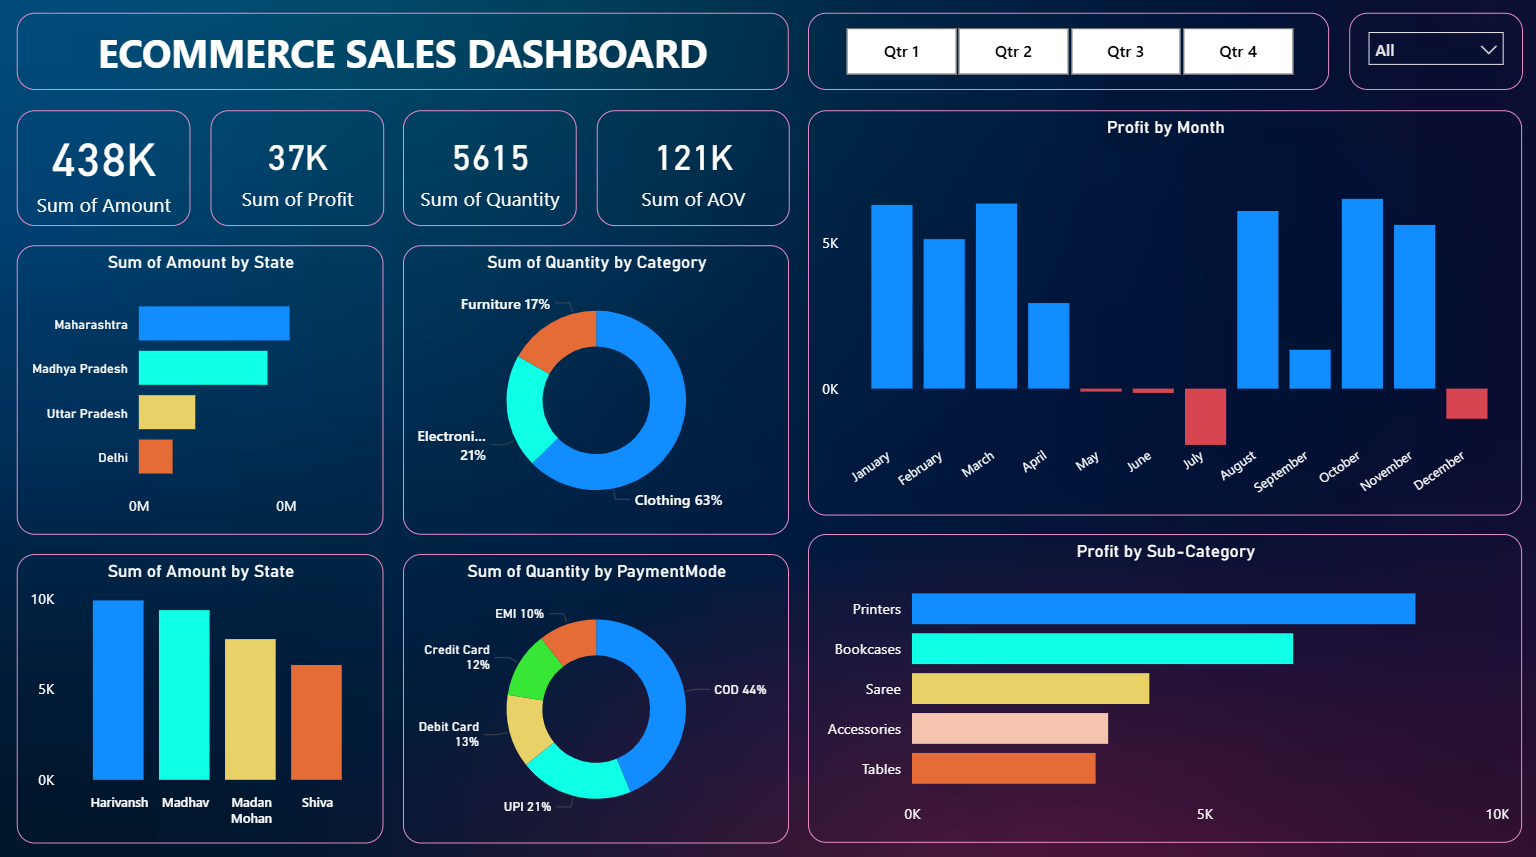

This screenshot's page, from the dashboard's own definition file:
{"tool":"powerbi","page":{"name":"Page 1","canvas":[1280,720],"ordinal":0},"visuals":[{"type":"textbox","box":[16,16,640,64],"z":0},{"type":"columnChart","title":"Profit by Month","fields":{"Y":["Sum(Details.Profit)"],"Category":["Orders.Order Date.Variation.Date Hierarchy.Month"]},"box":[672,96,592,336],"z":1000},{"type":"barChart","title":"Profit by Sub-Category","fields":{"Category":["Details.Sub-Category"],"Y":["Sum(Details.Profit)"]},"box":[672,448,592,256],"z":2000},{"type":"donutChart","fields":{"Category":["Details.Category"],"Y":["Sum(Details.Quantity)"]},"box":[336,208,320,240],"z":3000},{"type":"donutChart","fields":{"Y":["Sum(Details.Quantity)"],"Category":["Details.PaymentMode"]},"box":[336,464,320,240],"z":4000},{"type":"card","fields":{"Values":["Sum(Details.Amount)"]},"box":[16,96,144,96],"z":5000},{"type":"card","fields":{"Values":["Sum(Details.Quantity)"]},"box":[336,96,144,96],"z":6000},{"type":"card","fields":{"Values":["Sum(Details.Profit)"]},"box":[176,96,144,96],"z":7000},{"type":"card","fields":{"Values":["Sum(Details.AOV)"]},"box":[496,96,160,96],"z":8000},{"type":"barChart","title":"Sum of Amount by State","fields":{"Category":["Orders.State"],"Y":["Sum(Details.Amount)"]},"box":[16,208,304,240],"z":9000},{"type":"columnChart","title":"Sum of Amount by State","fields":{"Category":["Orders.CustomerName"],"Y":["Sum(Details.Amount)"]},"box":[16,464,304,240],"z":10000},{"type":"slicer","fields":{"Values":["Orders.Order Date.Variation.Date Hierarchy.Quarter"]},"box":[672,16,432,64],"z":11000},{"type":"slicer","fields":{"Values":["Orders.State"]},"box":[1120,16,144,64],"z":12000}]}

Visuals, with their boxes in screenshot pixels (x1, y1, x2, y2), scaled from the page's 1280x720 canvas onto the 1536x857 screenshot:
textbox: left=19, top=19, right=787, bottom=95
"Profit by Month" columnChart: left=806, top=114, right=1517, bottom=514
"Profit by Sub-Category" barChart: left=806, top=533, right=1517, bottom=838
donutChart - Details.Category x Sum(Details.Quantity): left=403, top=248, right=787, bottom=533
donutChart - Sum(Details.Quantity) x Details.PaymentMode: left=403, top=552, right=787, bottom=838
card - Sum(Details.Amount): left=19, top=114, right=192, bottom=229
card - Sum(Details.Quantity): left=403, top=114, right=576, bottom=229
card - Sum(Details.Profit): left=211, top=114, right=384, bottom=229
card - Sum(Details.AOV): left=595, top=114, right=787, bottom=229
"Sum of Amount by State" barChart: left=19, top=248, right=384, bottom=533
"Sum of Amount by State" columnChart: left=19, top=552, right=384, bottom=838
slicer - Orders.Order Date.Variation.Date Hierarchy.Quarter: left=806, top=19, right=1325, bottom=95
slicer - Orders.State: left=1344, top=19, right=1517, bottom=95
